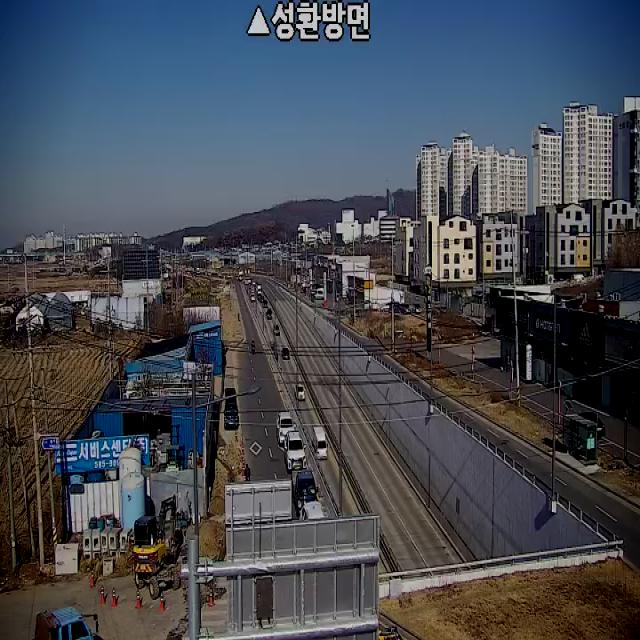Car: (291, 468, 319, 516), (284, 431, 307, 473), (573, 411, 604, 441), (276, 411, 296, 447), (312, 426, 328, 460), (299, 501, 329, 519), (294, 382, 306, 400), (282, 348, 290, 360), (273, 324, 280, 336), (256, 284, 262, 296), (267, 308, 272, 320), (262, 298, 268, 308), (260, 296, 265, 302)
Truck: (34, 607, 99, 640), (223, 388, 237, 428)
